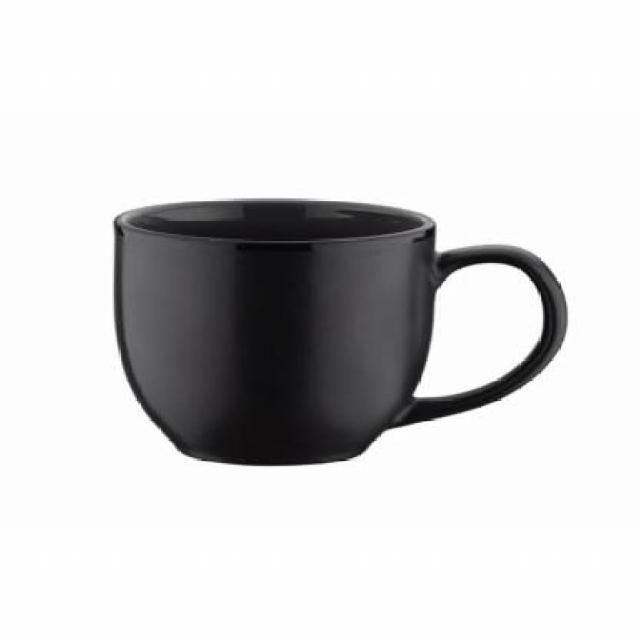taza: (110, 197, 570, 467)
